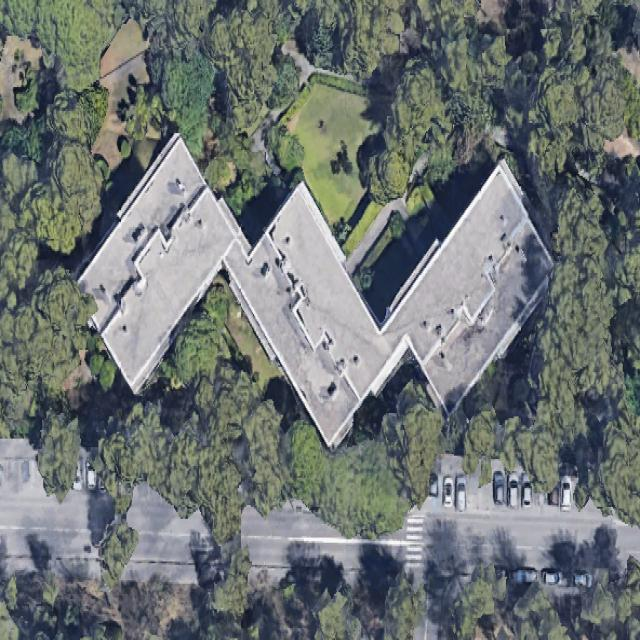immeuble: (42, 132, 266, 391), (363, 163, 587, 418), (210, 187, 416, 445)
